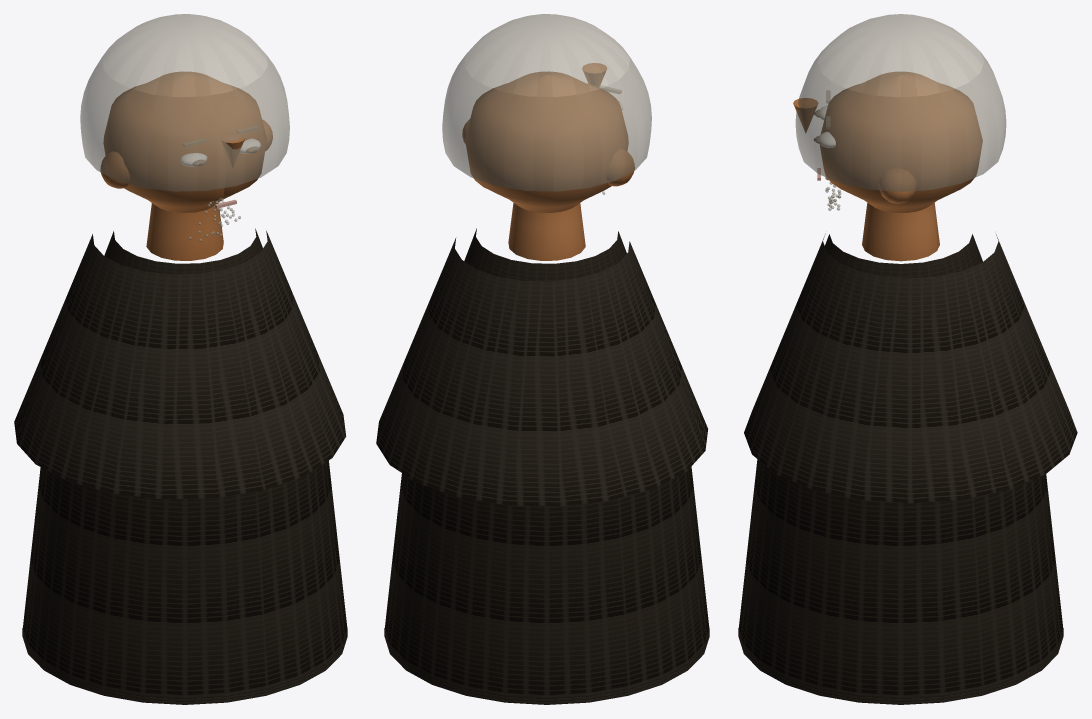
File: malchus.glb
3 views of the same model, side by side, from view 1: azimuth 30°, elevation 25°; view 2: azimuth 150°, elevation 25°; view 3: azimuth 270°, elevation 25° (orthographic).
Visible parts, largest first — view 1: Character_malchus, head; view 2: Character_malchus, head; view 3: Character_malchus, head.
Boxes of the visible parts, x1,y1,x2,y2 form: Character_malchus: (14,14,347,704); head: (103,71,266,212); Character_malchus: (376,14,709,704); head: (465,71,628,212); Character_malchus: (738,14,1077,704); head: (820,72,982,212).
Size of the model in its own units: 0.8886 by 1.8 by 0.9033.
Materials: 8 (4 with a texture image).
